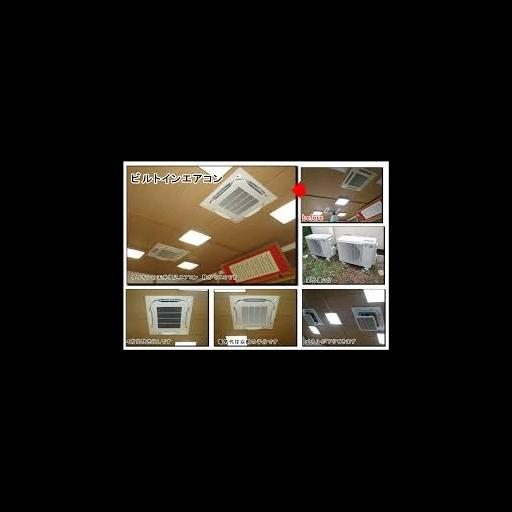4-way-ac: (203, 169, 278, 224), (145, 296, 192, 336), (230, 296, 279, 331), (146, 242, 190, 263), (339, 168, 377, 190), (352, 307, 384, 333), (302, 308, 324, 328)
